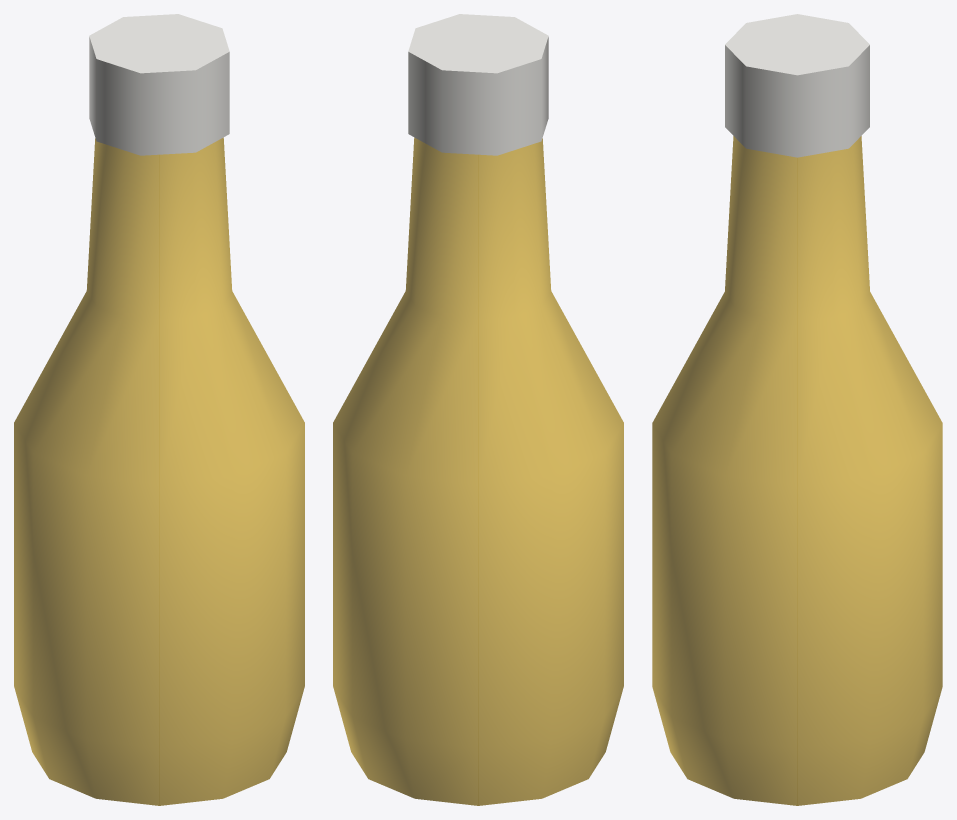
File: oil_bottle.glb
The picture shows the model from 3 angles, left to right: view 1: azimuth 30°, elevation 25°; view 2: azimuth 150°, elevation 25°; view 3: azimuth 270°, elevation 25°; orthographic projection.
Visible parts, largest first — view 1: root; view 2: root; view 3: root.
Boxes of the visible parts, x1,y1,x2,y2 form: root: (14,14,304,805); root: (333,14,623,805); root: (652,14,942,805).
Size of the model in its own units: 0.16 by 0.43 by 0.16.
